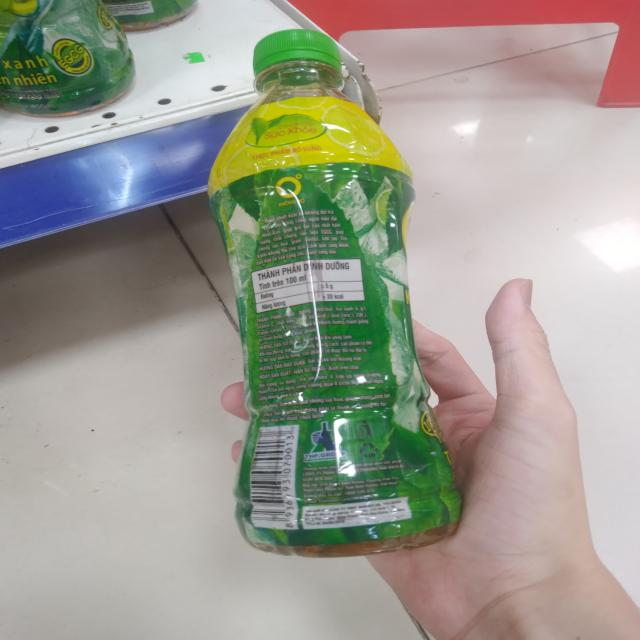tra xanh khong do: (184, 23, 501, 575)
